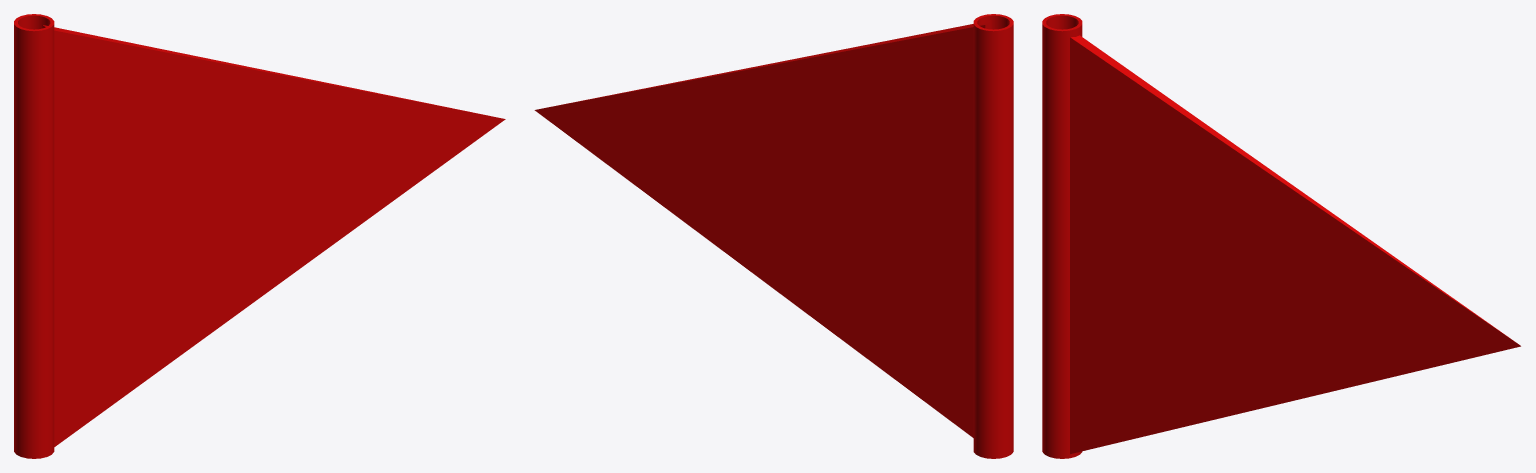
The model's file is flagHata.gltf.
The picture shows the model from 3 angles, left to right: view 1: azimuth 30°, elevation 25°; view 2: azimuth 150°, elevation 25°; view 3: azimuth 330°, elevation 25°; orthographic projection.
Size of the model in its own units: 0.0142 by 0.012 by 0.00102.
